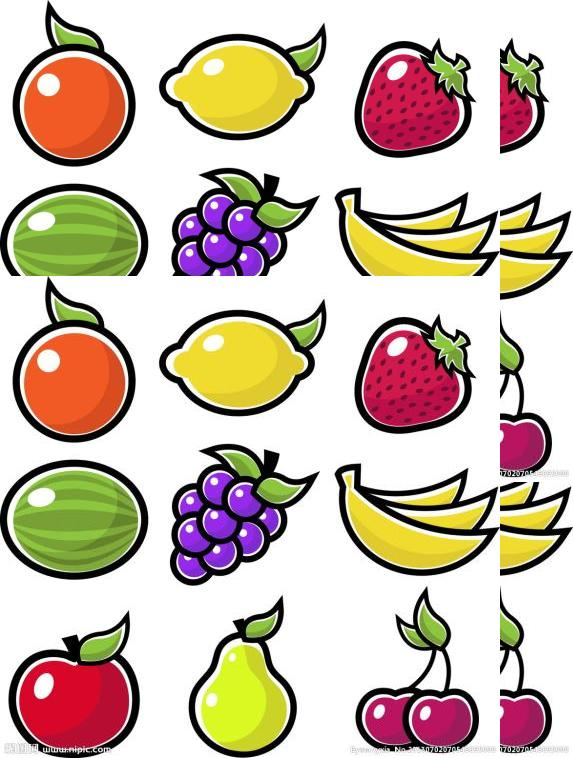fruit1: (9, 276, 137, 443), (10, 1, 137, 167)
fruit2: (157, 434, 323, 585), (158, 158, 323, 276)
fruit3: (331, 456, 500, 577), (331, 180, 500, 276), (499, 180, 573, 301), (499, 481, 573, 577)
fruitn: (346, 582, 482, 752), (499, 306, 555, 476), (499, 582, 555, 752)
